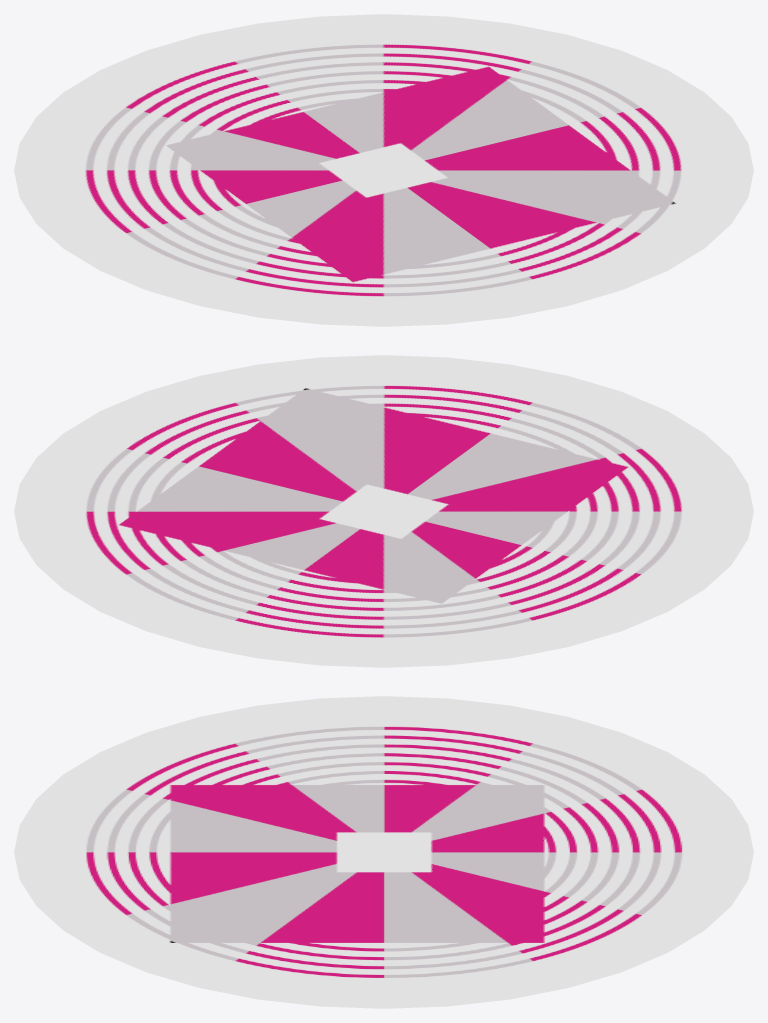
3 views of the same model, one above another, from view 1: azimuth 30°, elevation 25°; view 2: azimuth 150°, elevation 25°; view 3: azimuth 270°, elevation 25° (orthographic).
Visible parts, largest first — view 1: Disc; view 2: Disc; view 3: Disc.
Boxes of the visible parts, x1,y1,x2,y2 form: Disc: [14, 14, 753, 326]; Disc: [14, 355, 753, 667]; Disc: [14, 696, 753, 1008].
Bounding box in the file's own units: 506 × 0 × 506.
1 material, 1 textured.
